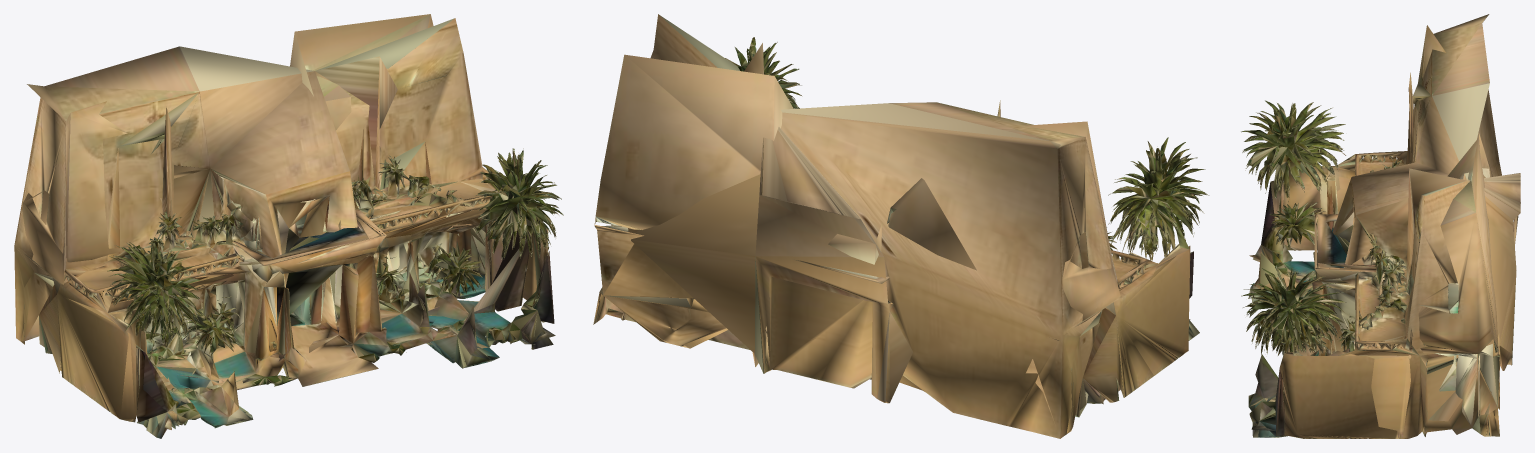
File: Egyptian_Palace.glb
The picture shows the model from 3 angles, left to right: view 1: azimuth 30°, elevation 25°; view 2: azimuth 150°, elevation 25°; view 3: azimuth 270°, elevation 25°; orthographic projection. The views are drawn at different scales.
Visible parts, largest first — view 1: Egyptian_Palace; view 2: Egyptian_Palace; view 3: Egyptian_Palace.
Part boxes in pixels (bbox=[...]): Egyptian_Palace: bbox=[14, 14, 563, 438]; Egyptian_Palace: bbox=[593, 14, 1209, 438]; Egyptian_Palace: bbox=[1241, 14, 1520, 438].
Bounding box in the file's own units: 1.9 × 1.13 × 1.17.
Materials: 1 (1 with a texture image).
